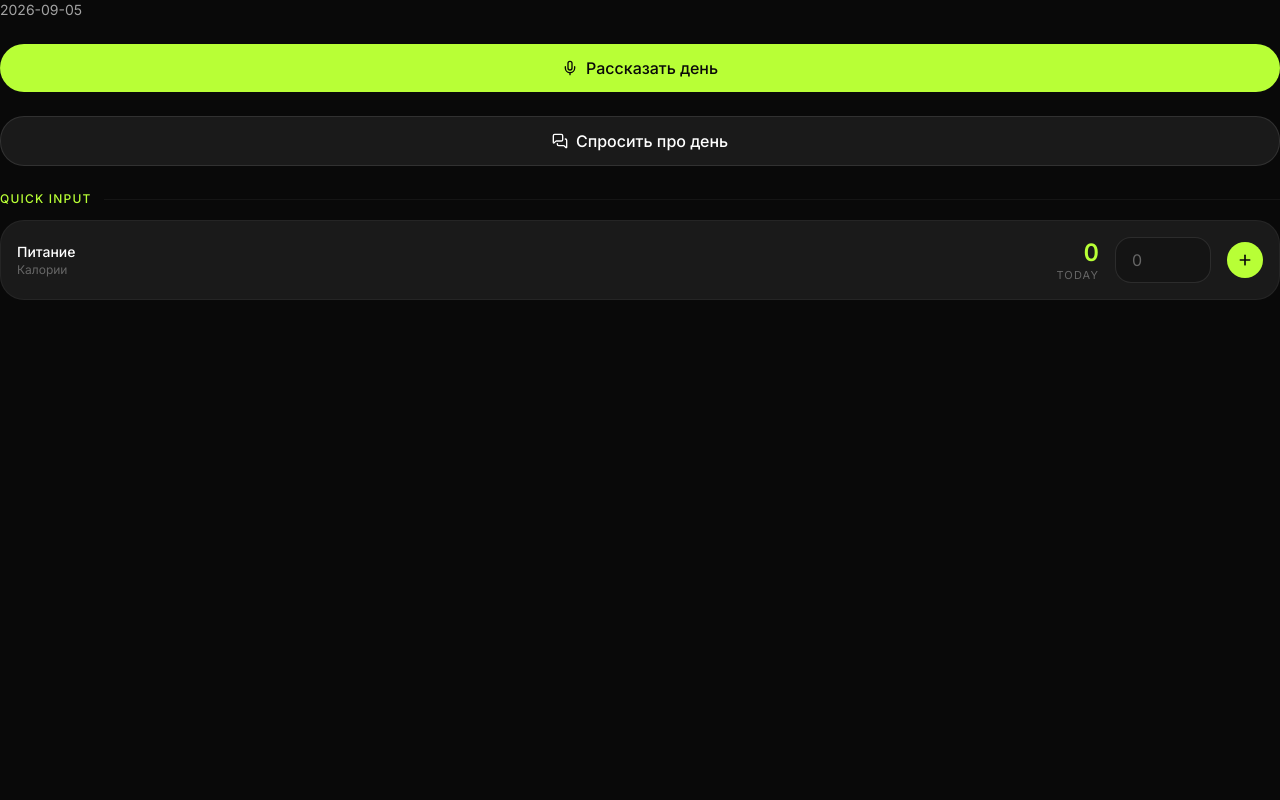
Scenario: dictating a day from /m/today › offers the day out loud without leaving the screen
The image size is (1280, 800).
Click the button with aria-label "Рассказать день голосом" at (640, 68), box [0,44,1279,92]
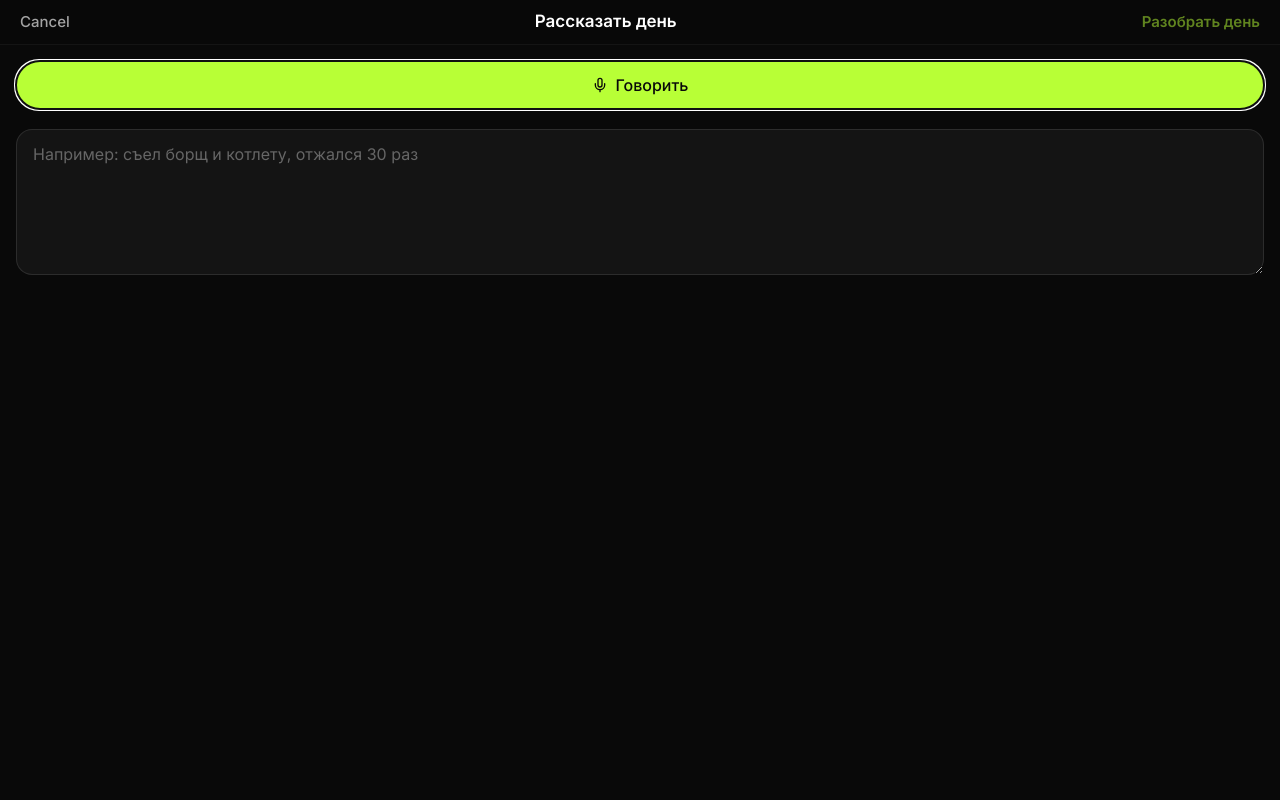
Expected: the dialog "Рассказать день" is shown
